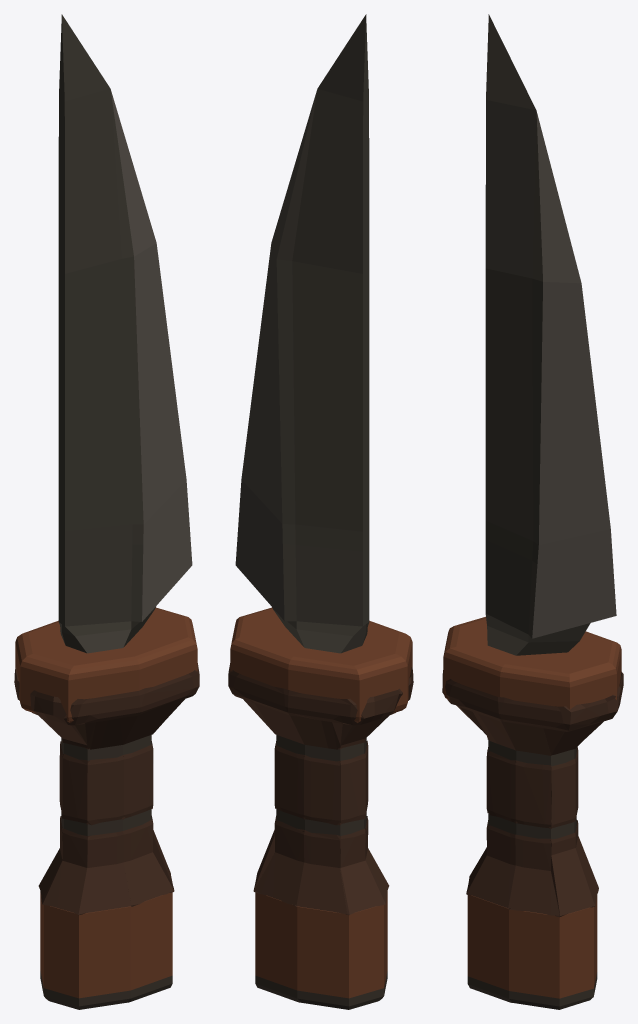
File: Knive.fbx
3 views of the same model, side by side, from view 1: azimuth 30°, elevation 25°; view 2: azimuth 150°, elevation 25°; view 3: azimuth 330°, elevation 25° (orthographic). The views are drawn at different scales.
Parts seen in each view (by area): view 1: Knive; view 2: Knive; view 3: Knive.
Part boxes in pixels (left/top/right/bottom): Knive: left=14, top=14, right=199, bottom=1009; Knive: left=228, top=14, right=413, bottom=1009; Knive: left=442, top=14, right=623, bottom=1009.
Size of the model in its own units: 17.3 by 93.75 by 11.81.
